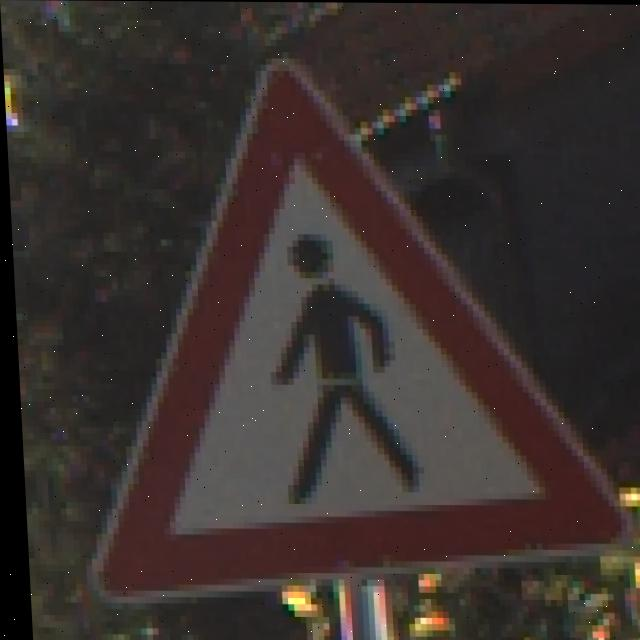crosswalk: (83, 88, 616, 559)
